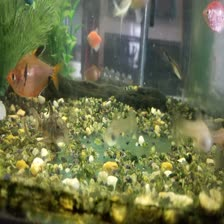Guppy: (171, 109, 215, 156), (98, 110, 145, 145)
Kiros: (8, 105, 81, 146)
Plano: (83, 24, 108, 52), (202, 0, 223, 33)
Transparente: (6, 42, 66, 98)
